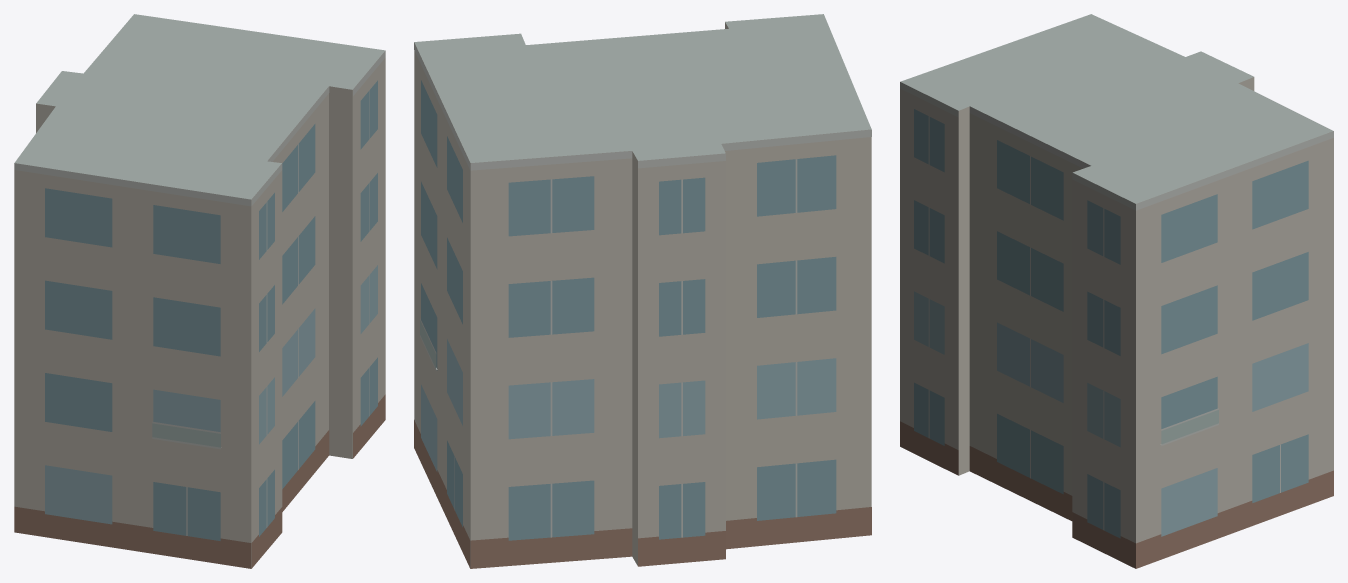
The model's file is survey-upis-32641369.glb.
The picture shows the model from 3 angles, left to right: view 1: azimuth 30°, elevation 25°; view 2: azimuth 150°, elevation 25°; view 3: azimuth 270°, elevation 25°; orthographic projection. The views are drawn at different scales.
Visible parts, largest first — view 1: survey-upis-32641369.tmp; view 2: survey-upis-32641369.tmp; view 3: survey-upis-32641369.tmp.
Part boxes in pixels (x1,y1,x2,y2): survey-upis-32641369.tmp: (14,14,385,568); survey-upis-32641369.tmp: (414,14,871,568); survey-upis-32641369.tmp: (900,14,1333,568).
Bounding box in the file's own units: 14.69 × 13.15 × 14.17.
